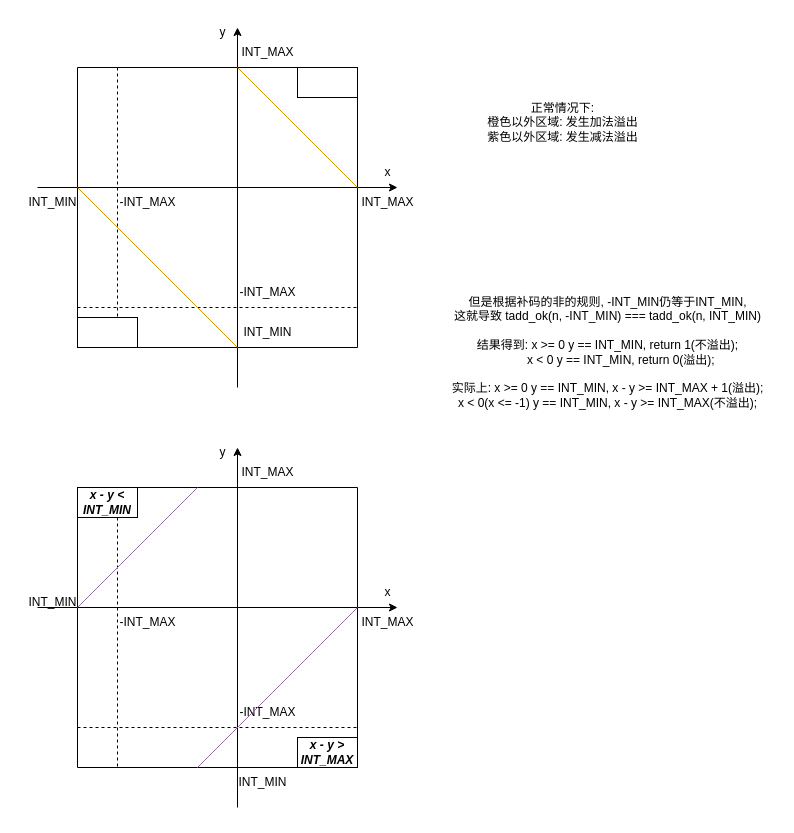
Image size: 794x833. Some labels were removed from this diagram. The shapes that lost their labels are listed below. From the top down, each one's centre as x and y in pixels, then its label:
point (327, 82): x + y > INT_MAX
point (107, 332): x + y < INT_MIN
